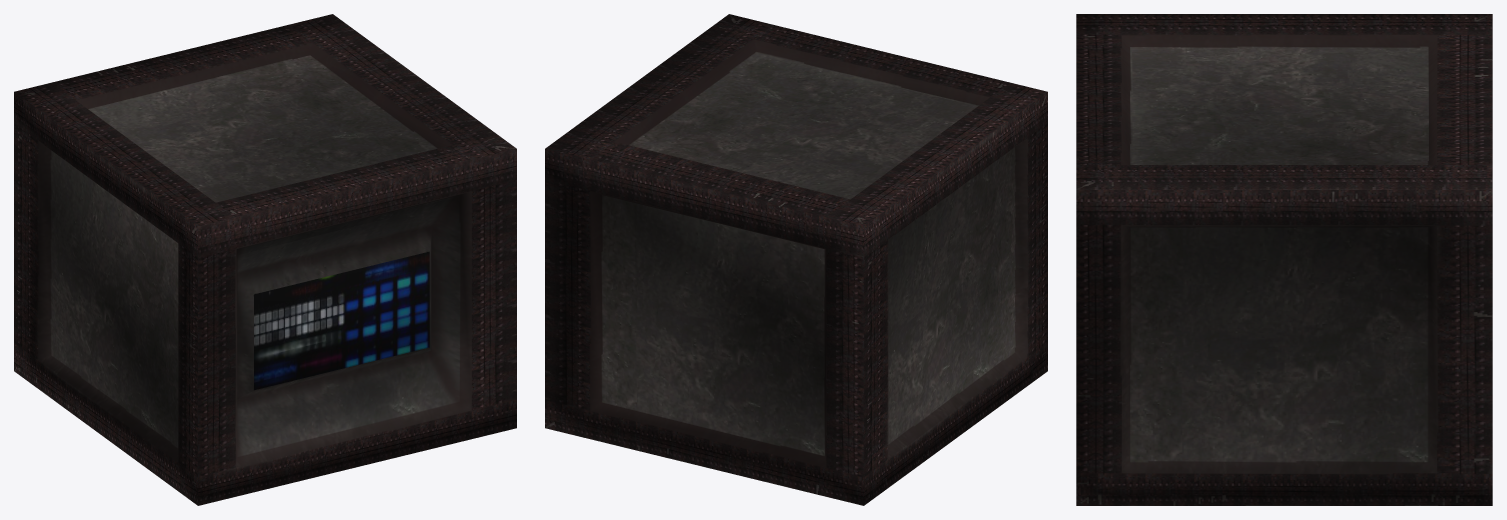
Rendered from Crate.fbx.
3 views of the same model, side by side, from view 1: azimuth 30°, elevation 25°; view 2: azimuth 150°, elevation 25°; view 3: azimuth 270°, elevation 25° (orthographic). The views are drawn at different scales.
Visible parts, largest first — view 1: Cube_001; view 2: Cube_001; view 3: Cube_001.
Boxes of the visible parts, left/top/right/bottom form: Cube_001: left=14, top=14, right=516, bottom=505; Cube_001: left=545, top=14, right=1047, bottom=505; Cube_001: left=1076, top=14, right=1492, bottom=505.
Bounding box in the file's own units: 4.13 × 3.46 × 4.13.
